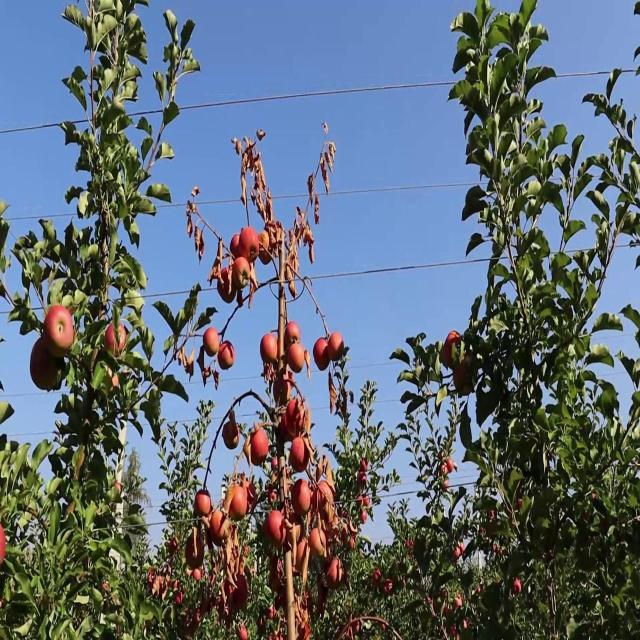apple: (44, 305, 76, 359), (32, 341, 59, 391), (104, 319, 128, 357), (268, 511, 287, 548), (444, 334, 463, 370), (240, 227, 259, 263), (292, 483, 312, 517), (228, 490, 249, 521), (272, 376, 292, 405), (196, 490, 213, 524), (220, 270, 236, 306), (260, 334, 279, 364), (284, 319, 301, 352), (197, 511, 216, 540), (188, 533, 204, 567), (252, 426, 269, 457), (212, 511, 227, 546), (204, 327, 220, 359), (224, 419, 240, 450), (220, 341, 236, 372), (232, 263, 250, 290), (308, 533, 326, 560), (328, 334, 344, 363), (292, 440, 305, 475), (236, 575, 249, 610), (316, 341, 330, 372), (288, 348, 304, 375), (292, 447, 307, 475), (328, 561, 342, 588), (456, 362, 469, 391), (0, 526, 8, 567), (232, 234, 244, 260), (260, 519, 271, 546), (108, 369, 120, 391), (372, 568, 383, 588), (356, 476, 368, 491), (512, 583, 524, 597), (408, 540, 419, 555), (456, 597, 464, 612), (384, 583, 392, 597), (456, 547, 462, 562), (360, 462, 368, 473)
